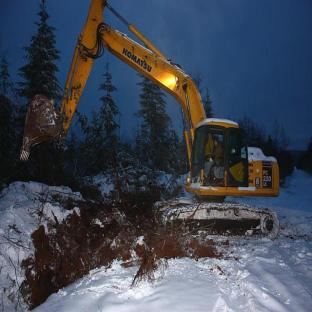ExcavationMachinery: (29, 30, 291, 260)
